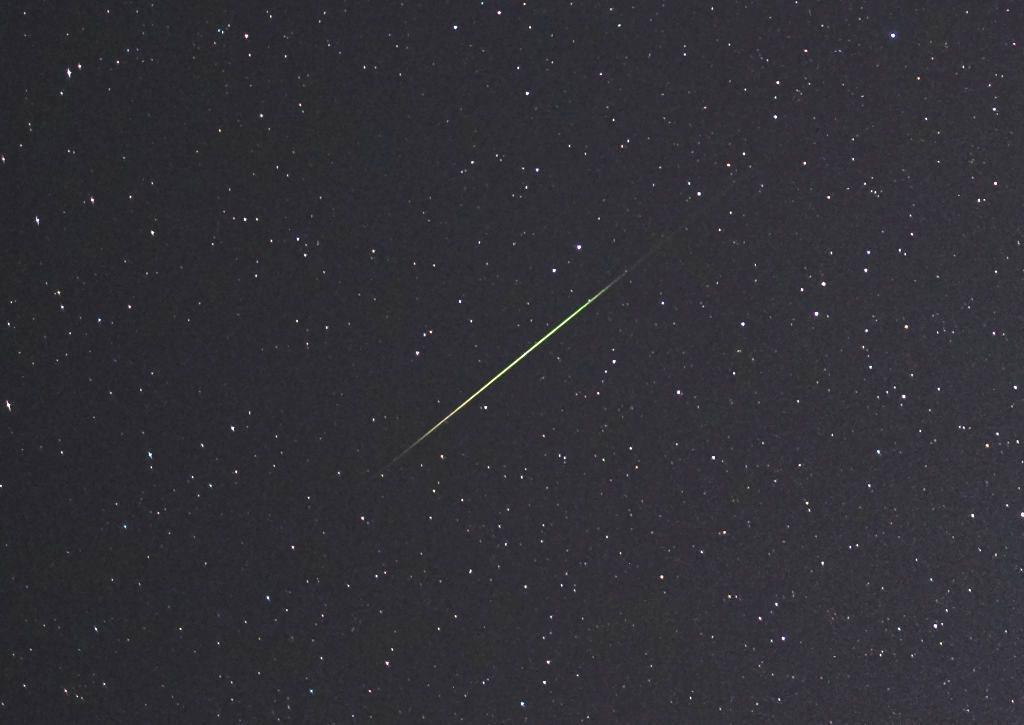meteorite: (341, 286, 611, 494)
